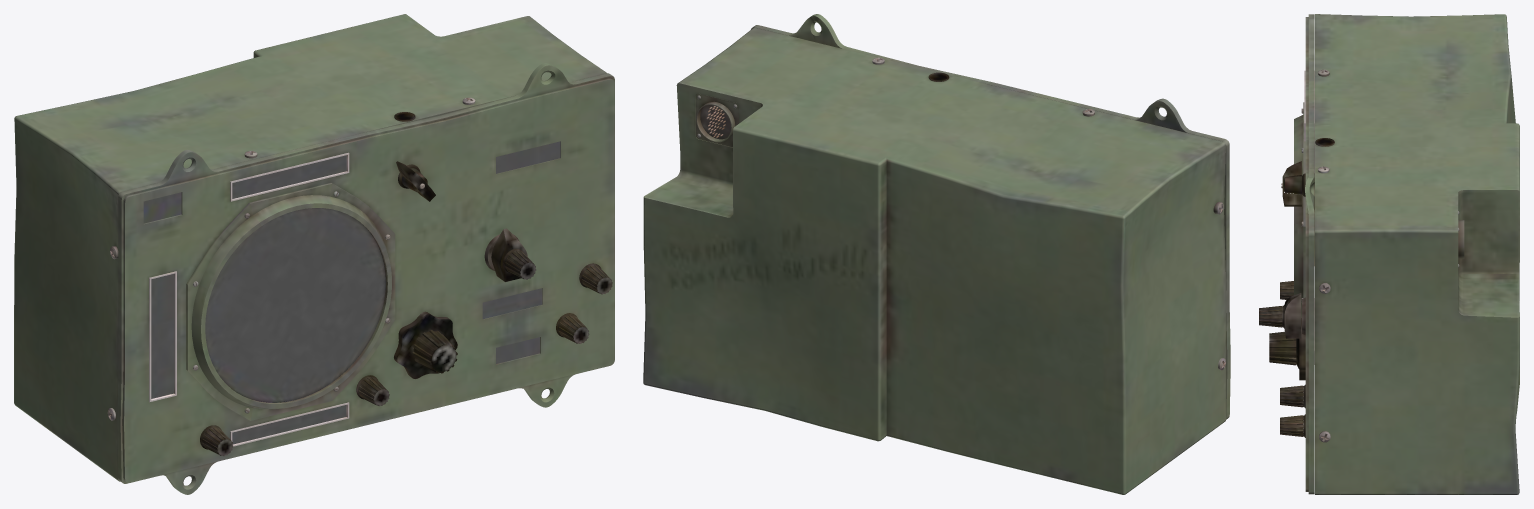
The model's file is table_clock.glb.
3 views of the same model, side by side, from view 1: azimuth 30°, elevation 25°; view 2: azimuth 150°, elevation 25°; view 3: azimuth 270°, elevation 25° (orthographic). The views are drawn at different scales.
Parts seen in each view (by area): view 1: vintage_spacecraft_instrument; view 2: vintage_spacecraft_instrument; view 3: vintage_spacecraft_instrument.
Part boxes in pixels (x1,y1,x2,y2): vintage_spacecraft_instrument: (14,14,614,494); vintage_spacecraft_instrument: (643,14,1230,494); vintage_spacecraft_instrument: (1259,14,1519,494).
Bounding box in the file's own units: 0.4103 × 0.2693 × 0.2044.
2 materials, 2 textured.
